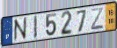2: (61, 10, 73, 38)
5: (45, 13, 58, 38)
7: (76, 9, 88, 34)
I: (33, 15, 38, 41)
N: (13, 16, 28, 44)
Z: (90, 7, 105, 32)
